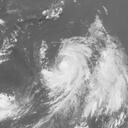cyclone: (40, 36, 91, 99)
